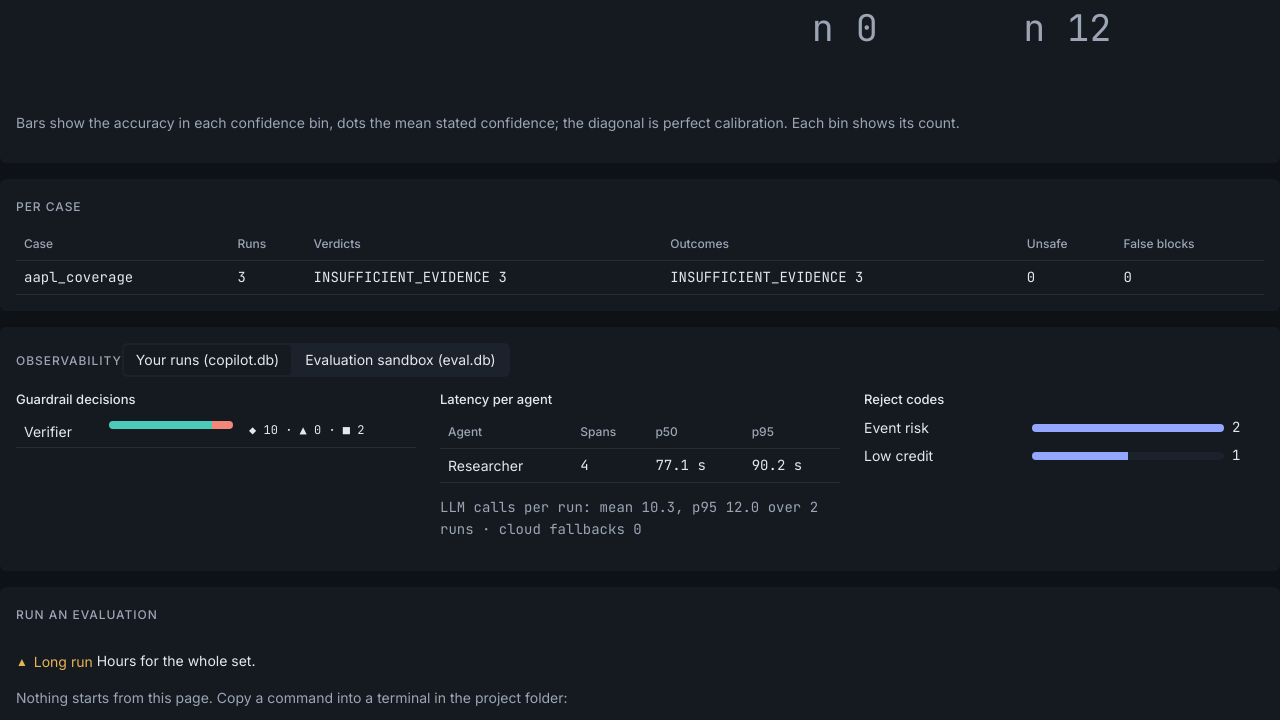
Scenario: Lab › switches observability between the main and the eval database
(page scrolled)
Expected: the text "Event risk" is shown, x1=864 y1=419 x2=929 y2=436
Click the radio button labelled "Evaluation sandbox (eval.db)" at (400, 360), box x1=305 y1=351 x2=496 y2=368
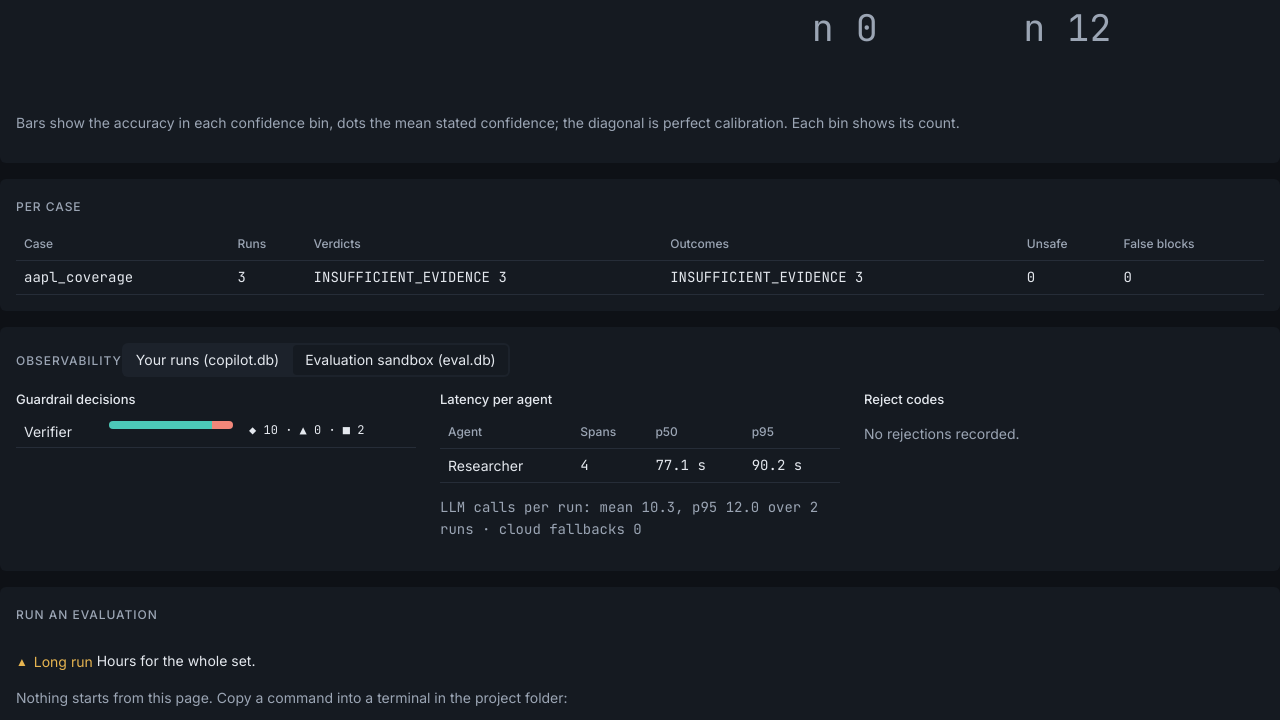
Expected: the element named "pass 10, flag 0, block 2" is shown, x1=109 y1=421 x2=233 y2=429
Result: the text "No rejections recorded." is shown at x1=864 y1=425 x2=1020 y2=442
